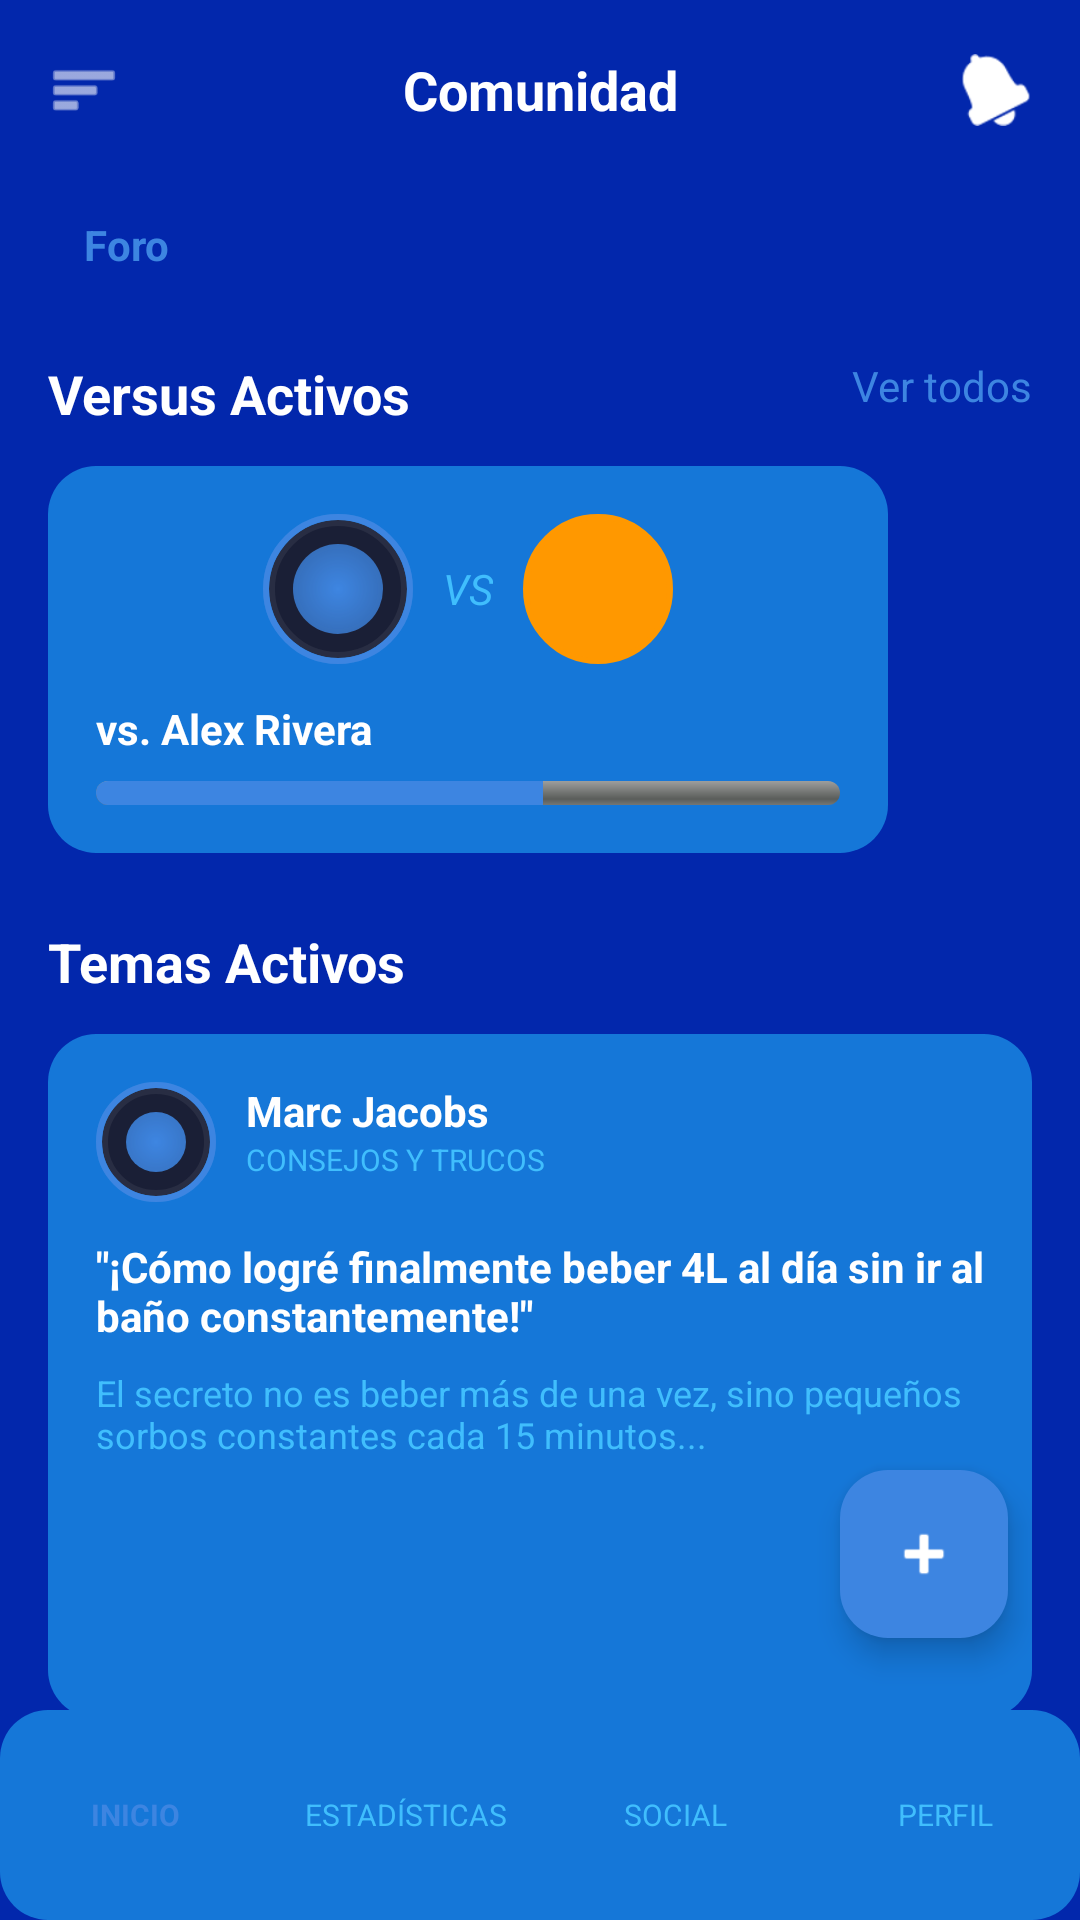

Icons on this 1080px x 1920px Android screen, each with its box as bbox=[x1, y1, x2, y2]:
Crear nueva publicación: bbox=[840, 1470, 1008, 1638]
popup reminder: bbox=[962, 54, 1030, 126]
sort by size: bbox=[53, 70, 115, 111]
